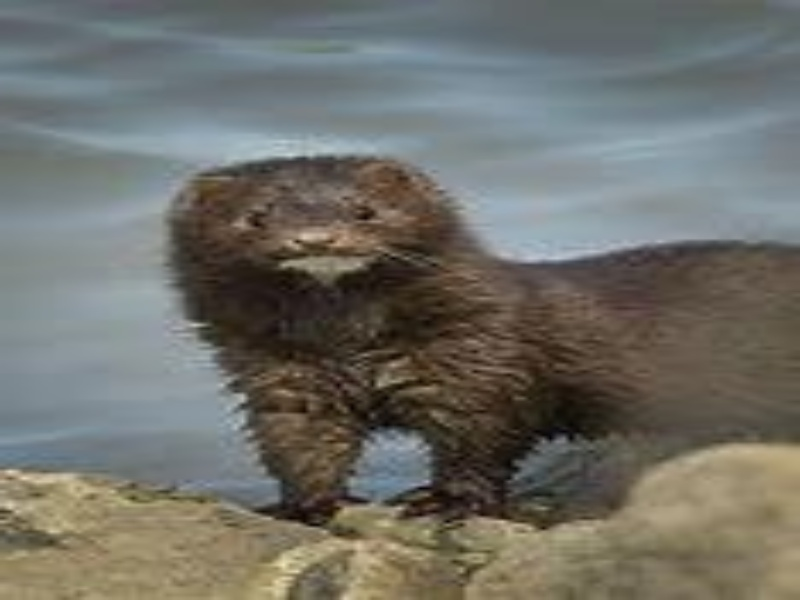minkish: (159, 150, 800, 524)
